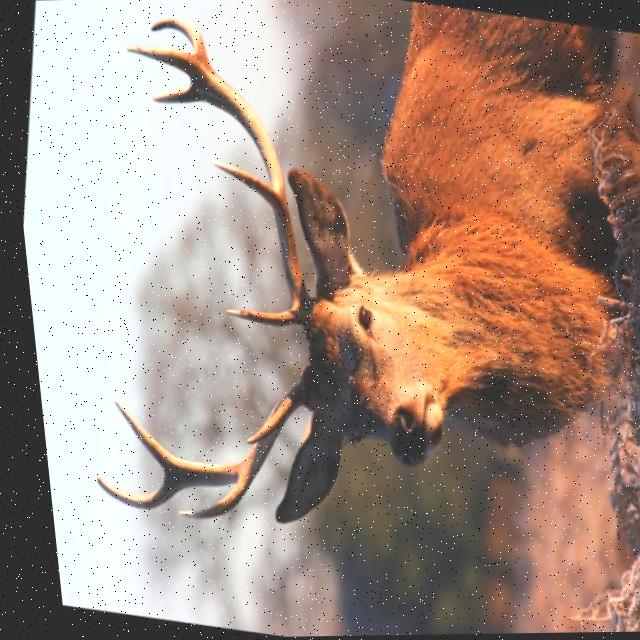E1: (151, 84, 200, 103)
E2: (150, 17, 205, 53)
L-F: (125, 46, 310, 334)
L-G1: (219, 308, 291, 326)
L-G2: (209, 161, 274, 208)
